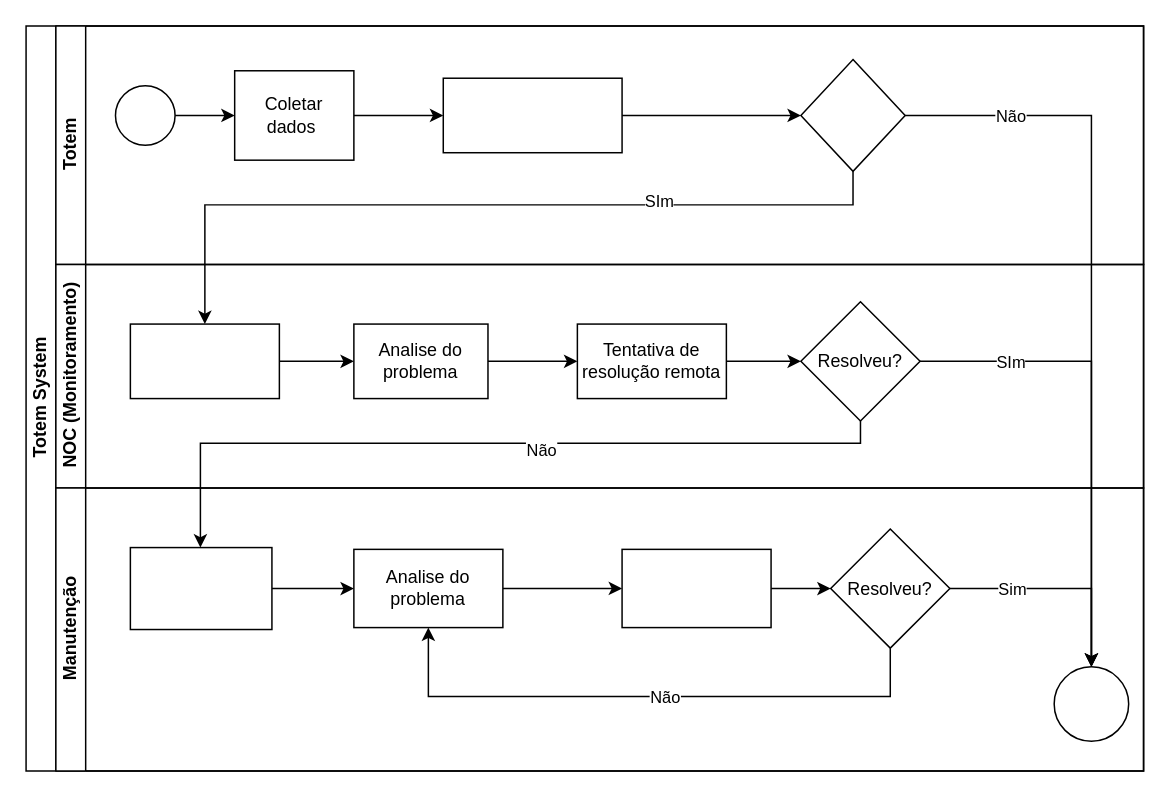
Some shapes in this 1170 by 797 pixel diagram are drawn without their labels. The shapes that lost their labels are listed below. From the top down, each one's centre as x and y in pixels, then its label:
[532,115]: Comparar com os dados valor ideiais
[852,114]: Erro
[204,361]: Alerta Dashboard + Avisar estação
[200,588]: Visita presencial
[696,588]: Tentativa de resolução
